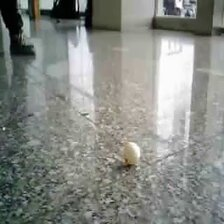w: (122, 141, 140, 165)
